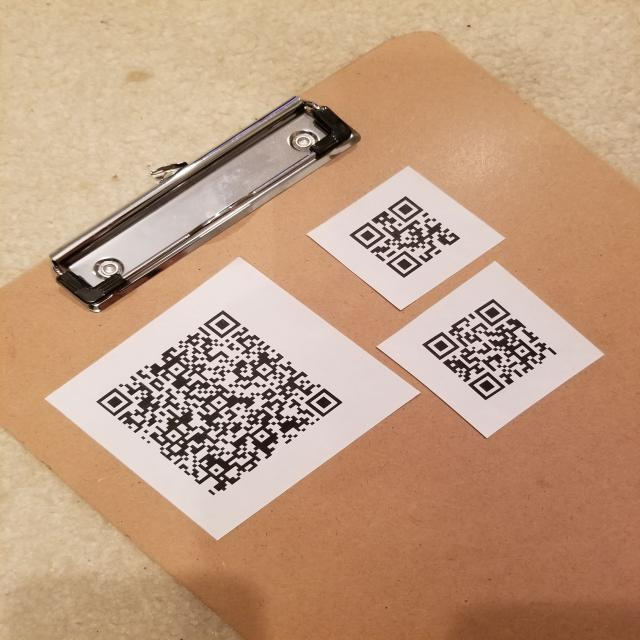QRCode: (87, 302, 353, 504), (417, 291, 567, 416), (341, 185, 473, 287)
